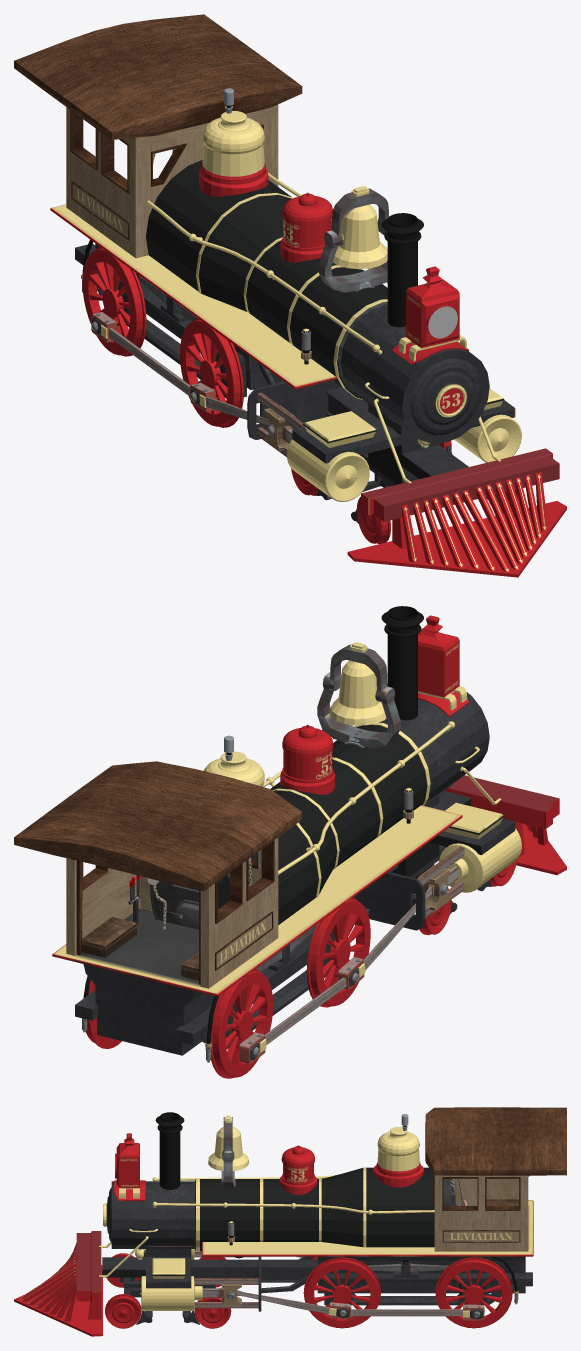
File: train5.fbx
3 views of the same model, one above another, from view 1: azimuth 30°, elevation 25°; view 2: azimuth 150°, elevation 25°; view 3: azimuth 270°, elevation 25° (orthographic). The views are drawn at different scales.
Parts seen in each view (by area): view 1: train6; view 2: train6; view 3: train6.
Part boxes in pixels (<box>): train6: <box>14,14,566,577</box>; train6: <box>14,606,566,1078</box>; train6: <box>14,1107,566,1336</box>.
Size of the model in its own units: 350 by 447 by 1165.
2 materials, 2 textured.
